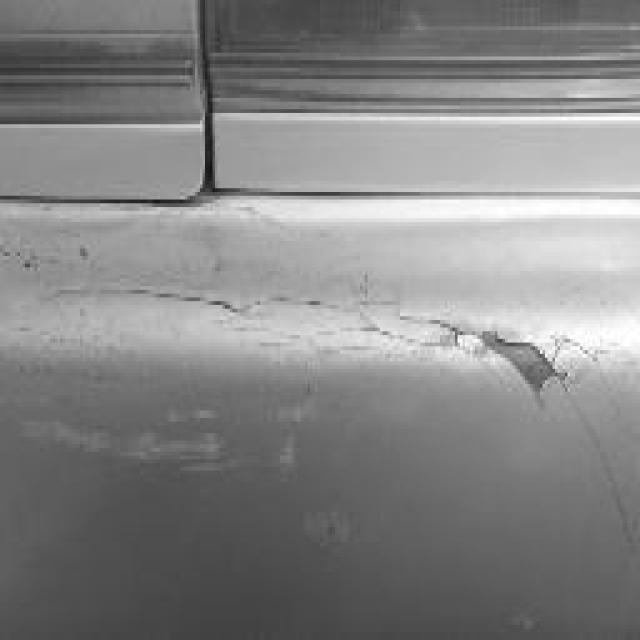Bumper: (0, 200, 640, 632)
